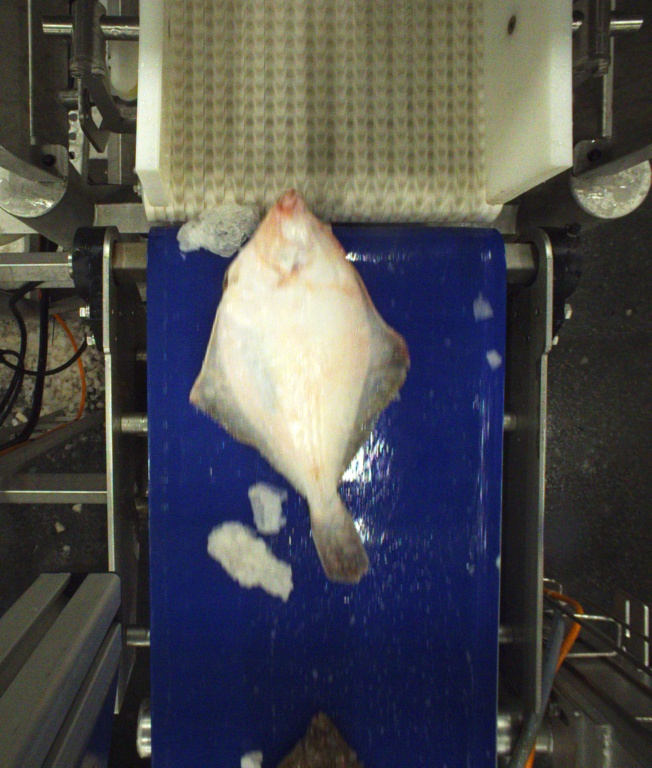PLE: (188, 189, 409, 583)
